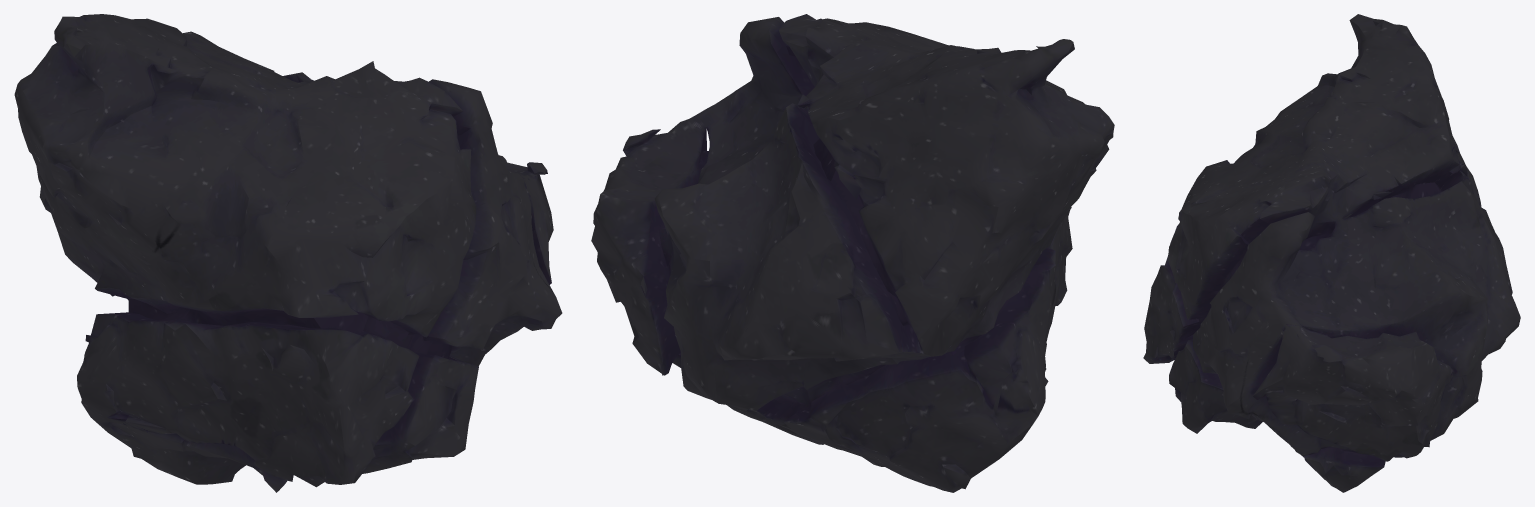
Rendered from rock-medium-fragment.glb.
3 views of the same model, side by side, from view 1: azimuth 30°, elevation 25°; view 2: azimuth 150°, elevation 25°; view 3: azimuth 270°, elevation 25° (orthographic). The views are drawn at different scales.
Parts seen in each view (by area): view 1: Rock_B_MediumFragment; view 2: Rock_B_MediumFragment; view 3: Rock_B_MediumFragment.
Part boxes in pixels (x1,y1,x2,y2): Rock_B_MediumFragment: (14,14,562,492); Rock_B_MediumFragment: (591,14,1114,492); Rock_B_MediumFragment: (1143,14,1520,492).
Bounding box in the file's own units: 0.9665 × 0.9028 × 0.8362.
1 material, 1 textured.
